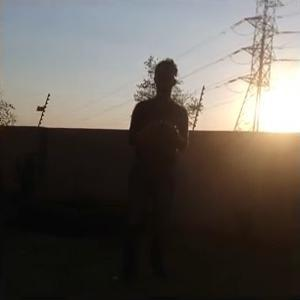follow: (113, 52, 191, 280)
